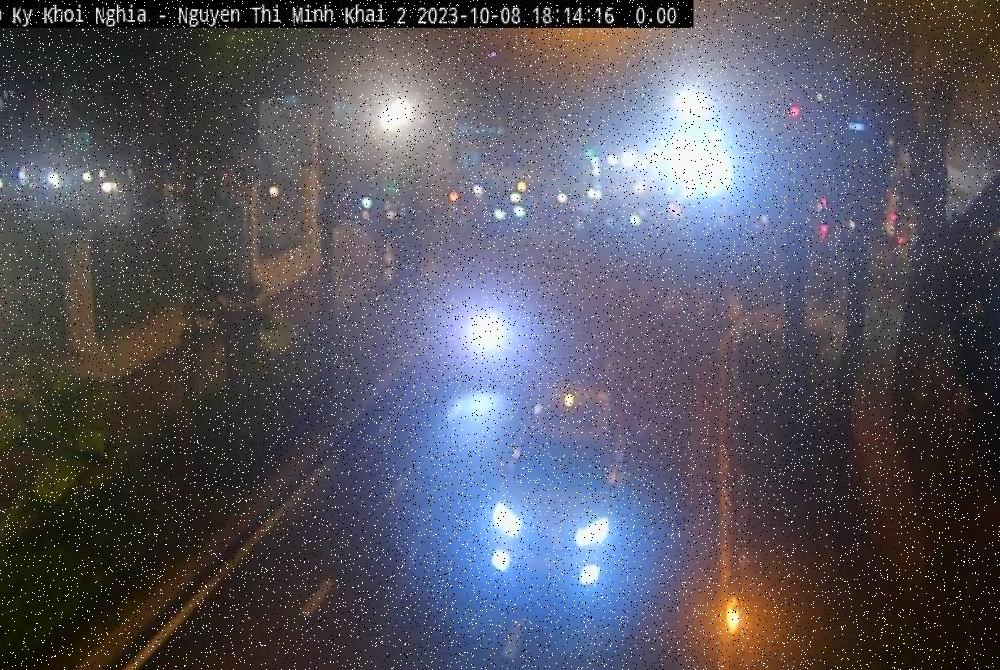car: (484, 381, 631, 595)
